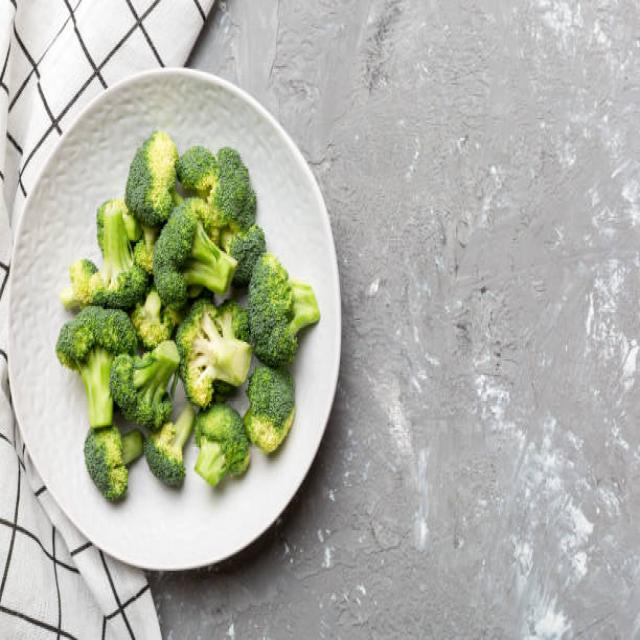broccoli: (248, 262, 324, 357), (247, 362, 306, 472), (69, 308, 117, 428), (127, 130, 202, 206), (85, 203, 144, 292), (153, 211, 222, 287), (182, 312, 248, 389), (76, 435, 140, 512), (122, 342, 180, 426), (193, 402, 244, 495), (148, 433, 185, 489)
